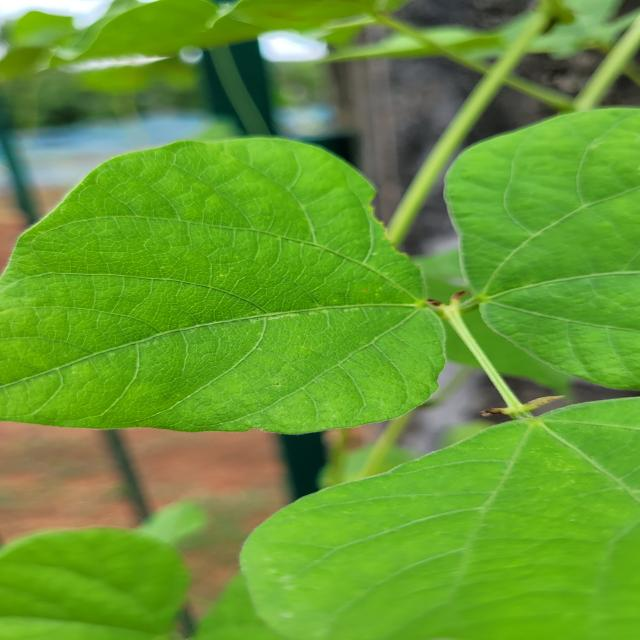Dolicos bean_healthy: (0, 135, 454, 435), (237, 392, 640, 639), (429, 94, 640, 391)
